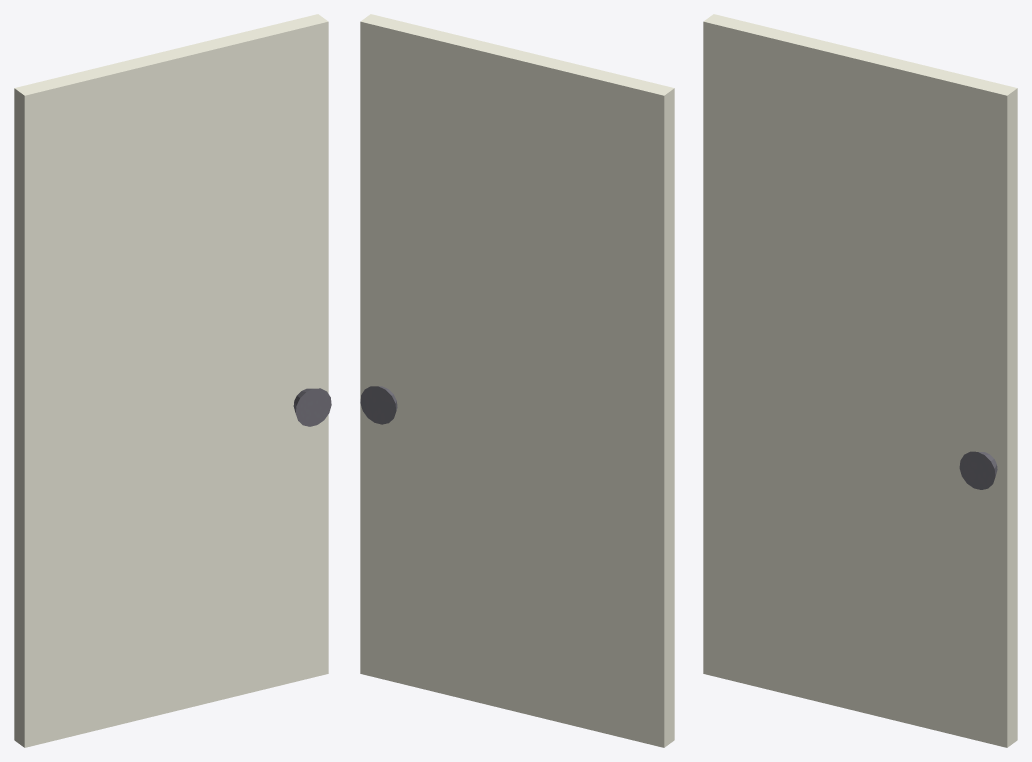
Rendered from door2.fbx.
The picture shows the model from 3 angles, left to right: view 1: azimuth 30°, elevation 25°; view 2: azimuth 150°, elevation 25°; view 3: azimuth 330°, elevation 25°; orthographic projection.
Parts seen in each view (by area): view 1: Cube.001; view 2: Cube.001; view 3: Cube.001.
Part boxes in pixels (<box>): Cube.001: <box>14,14,331,747</box>; Cube.001: <box>360,14,674,747</box>; Cube.001: <box>703,14,1017,747</box>.
Bounding box in the file's own units: 200 × 410 × 25.2.
1 material, 1 textured.
